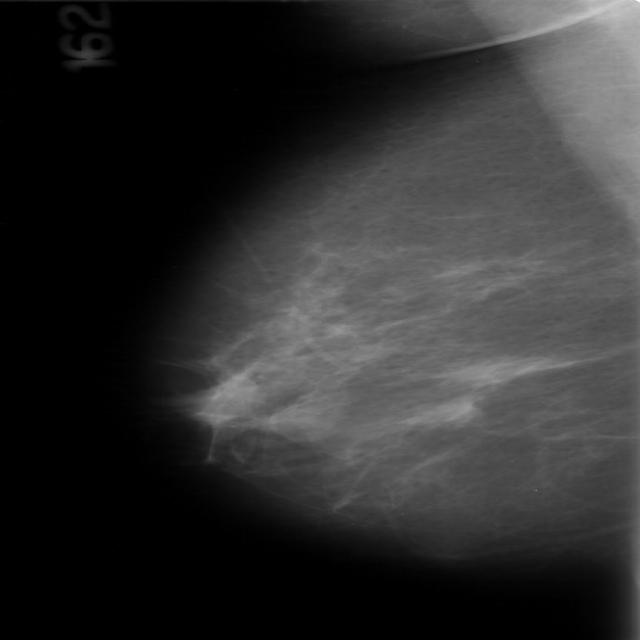tumour: (405, 395, 475, 427)
